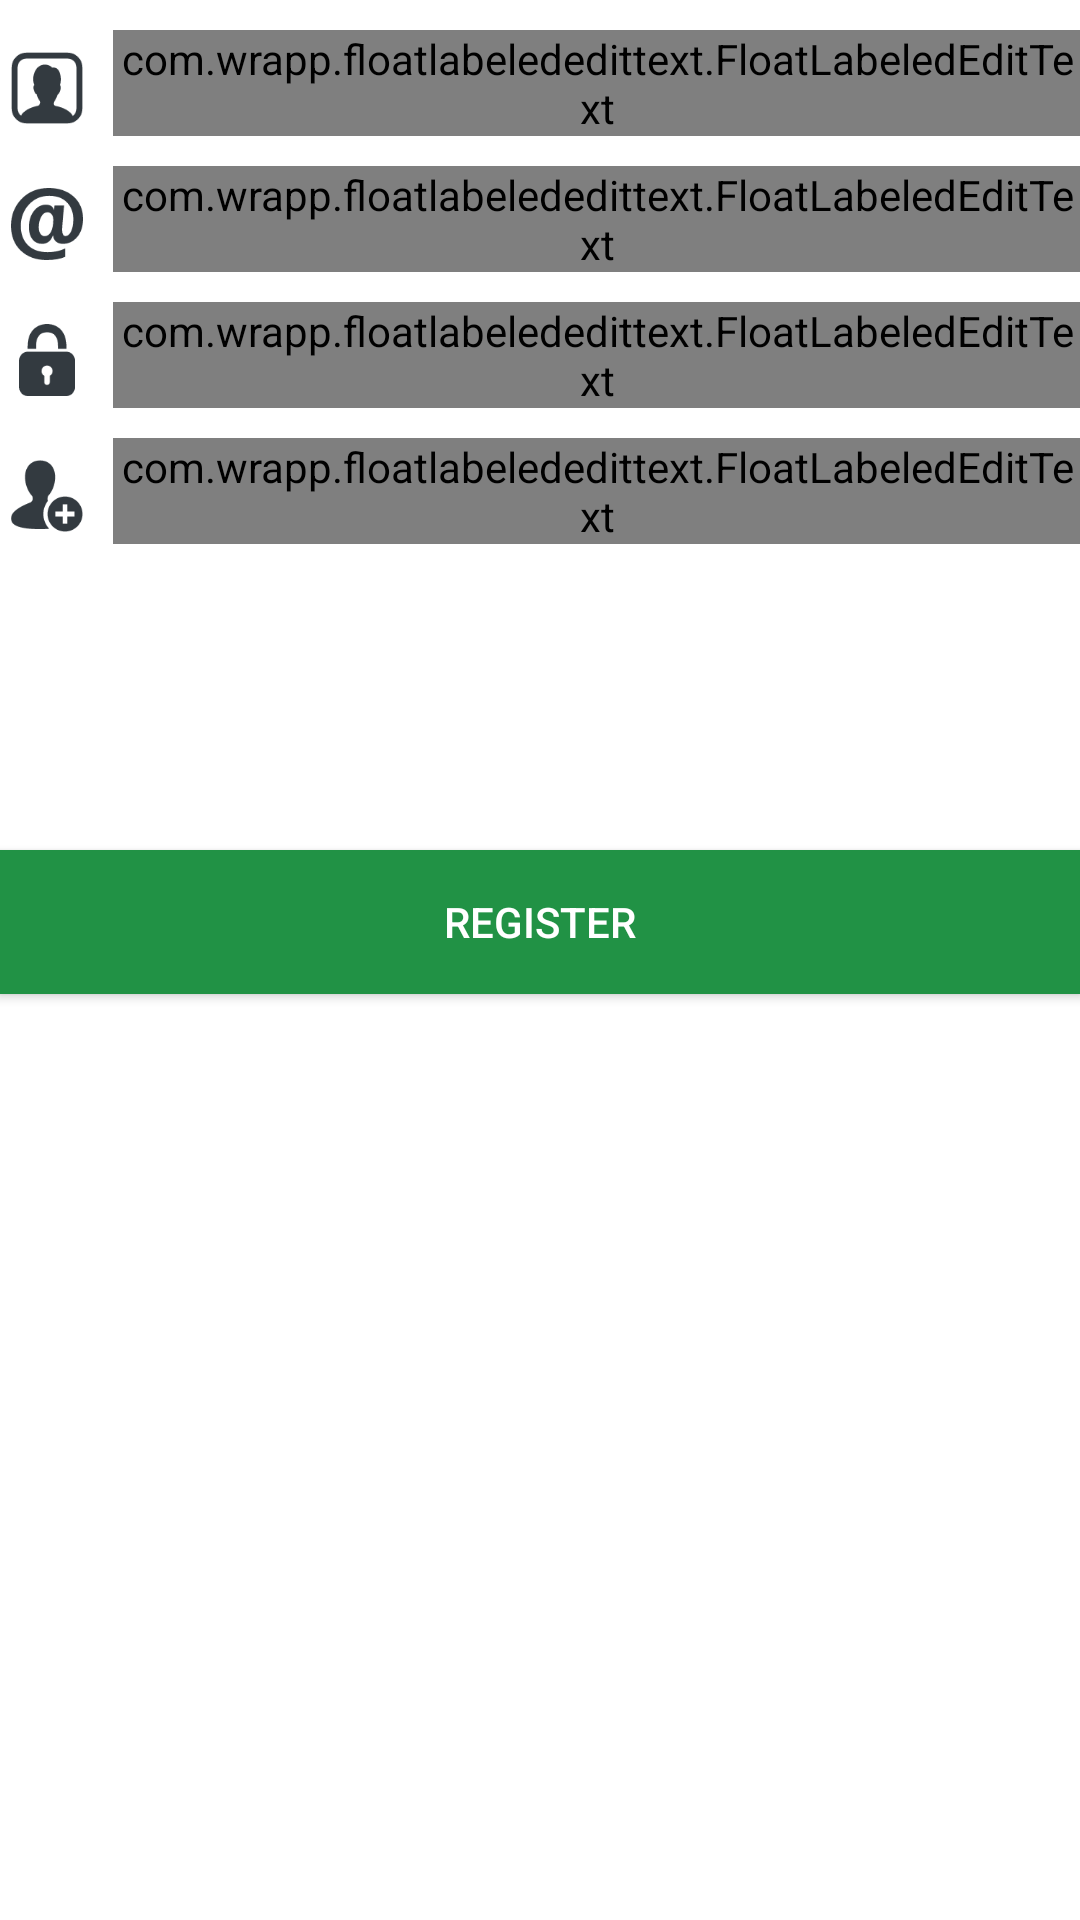

Screen size 1080w x 1920h. Icon name, then its center in pixels as (x=x, y=y):
myemaildark: (x=47, y=224)
mynamedark: (x=47, y=88)
mypassworddark: (x=47, y=360)
myreferraldark: (x=47, y=496)
